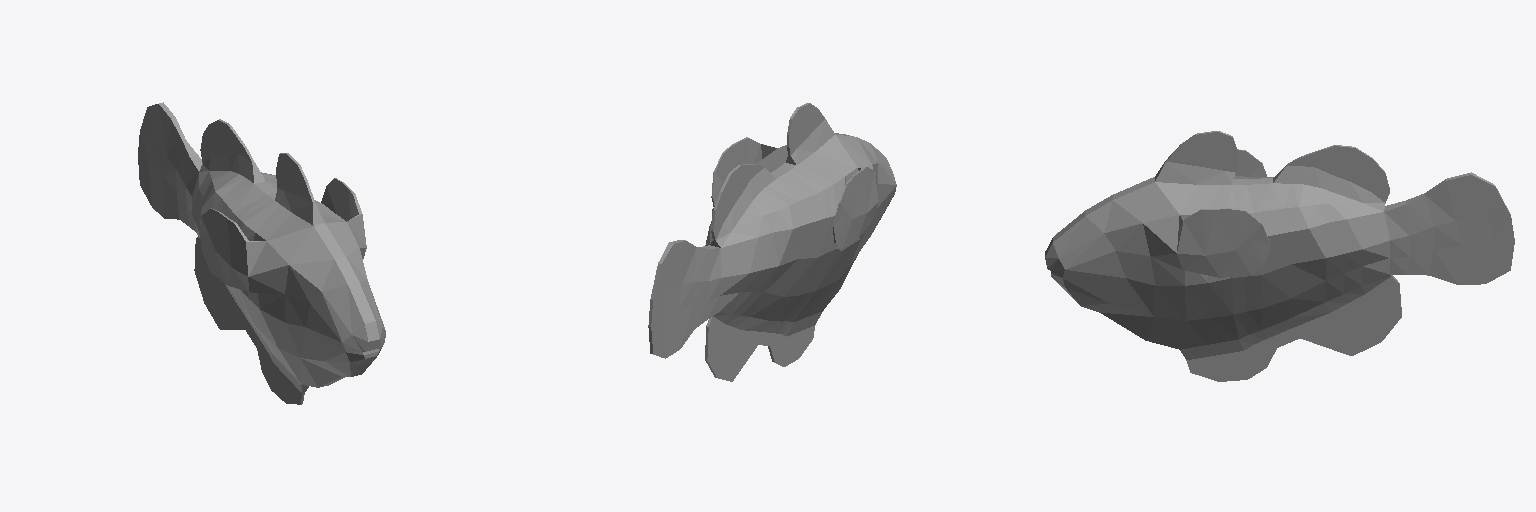
Rendered from TropicalFish12.obj.
3 views of the same model, side by side, from view 1: azimuth 30°, elevation 25°; view 2: azimuth 150°, elevation 25°; view 3: azimuth 270°, elevation 25° (orthographic).
Visible parts, largest first — view 1: TropicalFish12; view 2: TropicalFish12; view 3: TropicalFish12.
Part boxes in pixels (x1,y1,x2,y2): TropicalFish12: (138,102,385,404); TropicalFish12: (648,103,896,381); TropicalFish12: (1045,131,1514,381).
Bounding box in the file's own units: 135 × 254 × 432.